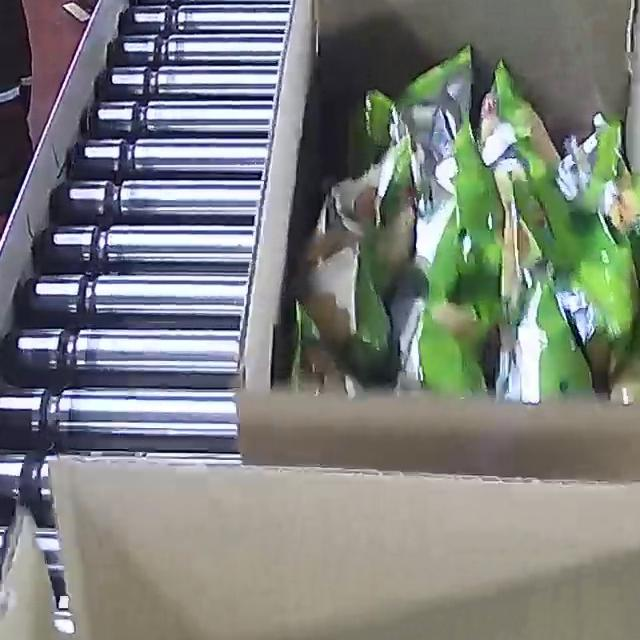yogurt: (289, 42, 640, 405)
